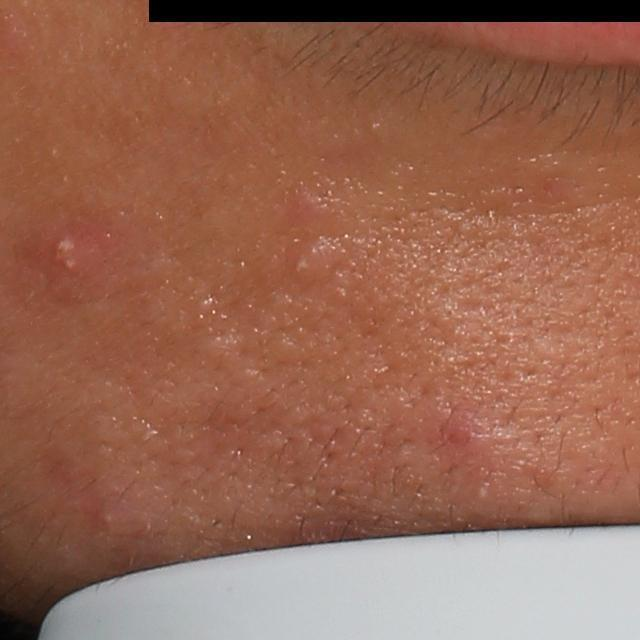papule: (284, 183, 329, 229), (436, 407, 481, 453)
